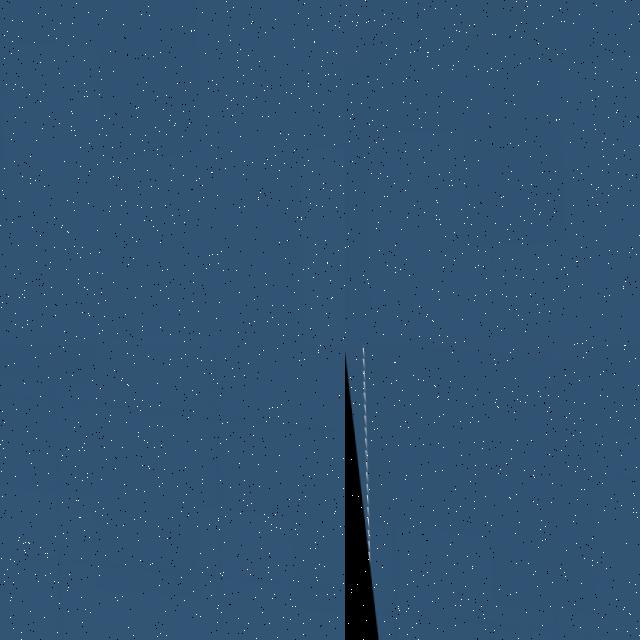drone: (0, 345, 345, 640), (345, 345, 640, 640)
